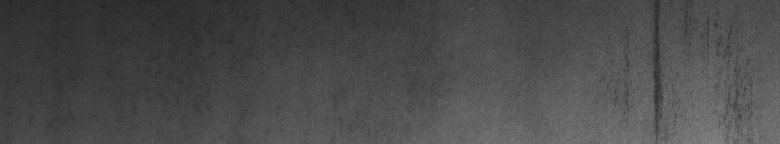ka: (624, 4, 752, 135)
